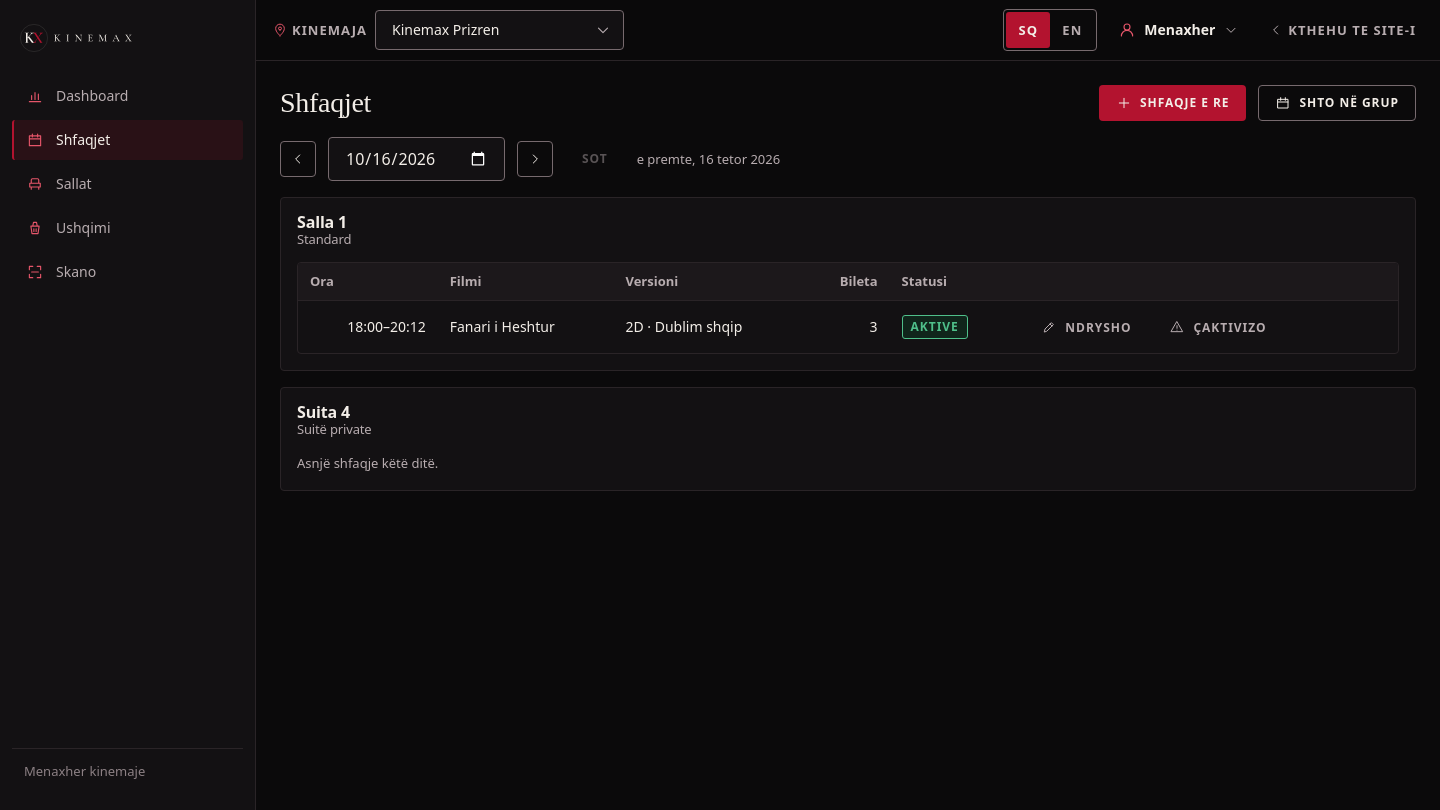
Test: the showtimes page › deactivates after a dialog that states the refunds and cancellations
Click the button with aria-label "Çaktivizo shfaqjen Fanari i Heshtur".
click(1218, 327)  # box [1152, 309, 1284, 345]
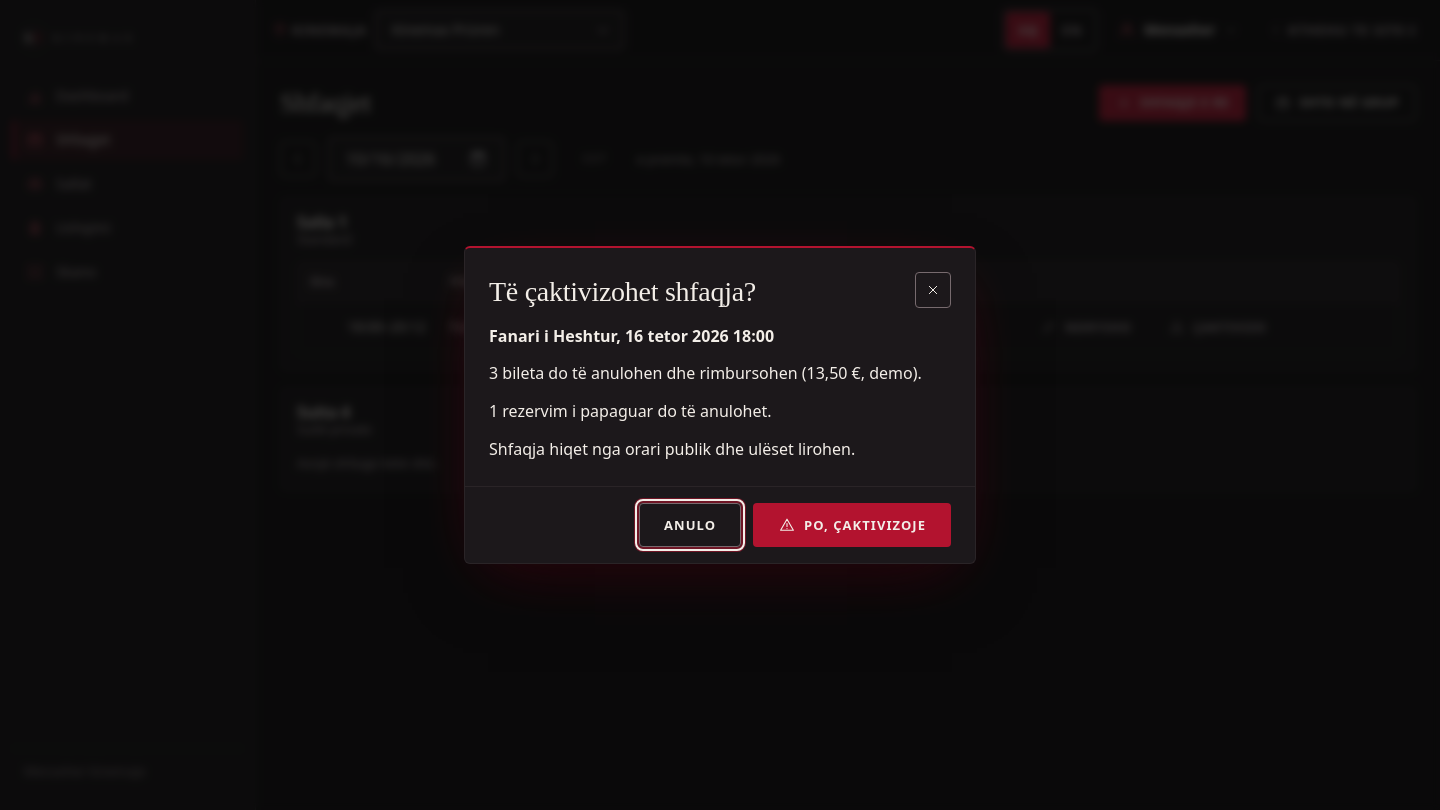
Expected: the text "3 bileta do të anulohen dhe rimbursohen (13,50 €, demo)." is shown, [489, 361, 951, 387]
Expected: the text "1 rezervim i papaguar do të anulohet." is shown, [489, 400, 772, 422]
Click the button "Po, çaktivizoje".
click(852, 525)  # box [753, 503, 951, 547]
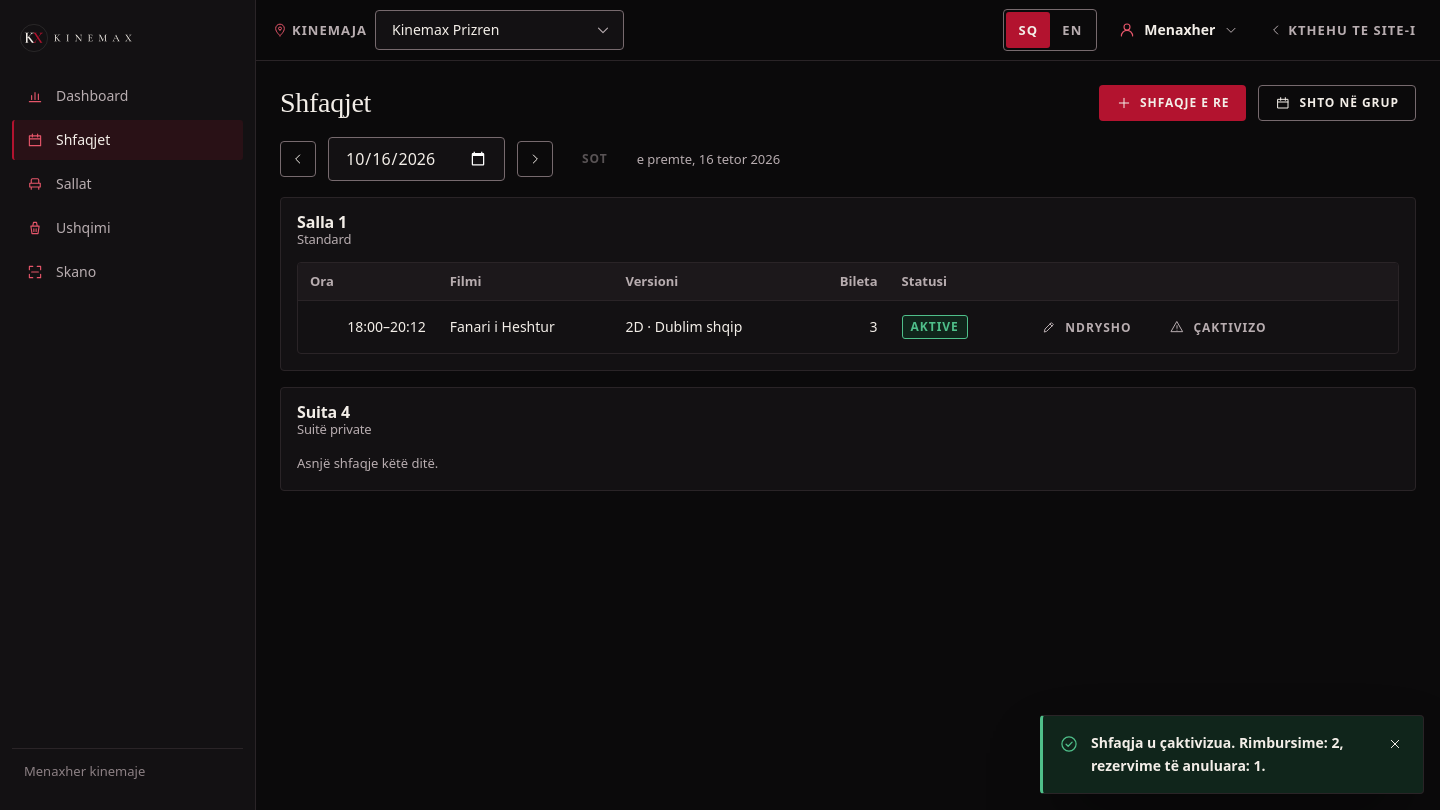
Expected: the text "Shfaqja u çaktivizua. Rimbursime: 2, rezervime të anuluara: 1." is shown, [1091, 732, 1371, 777]
